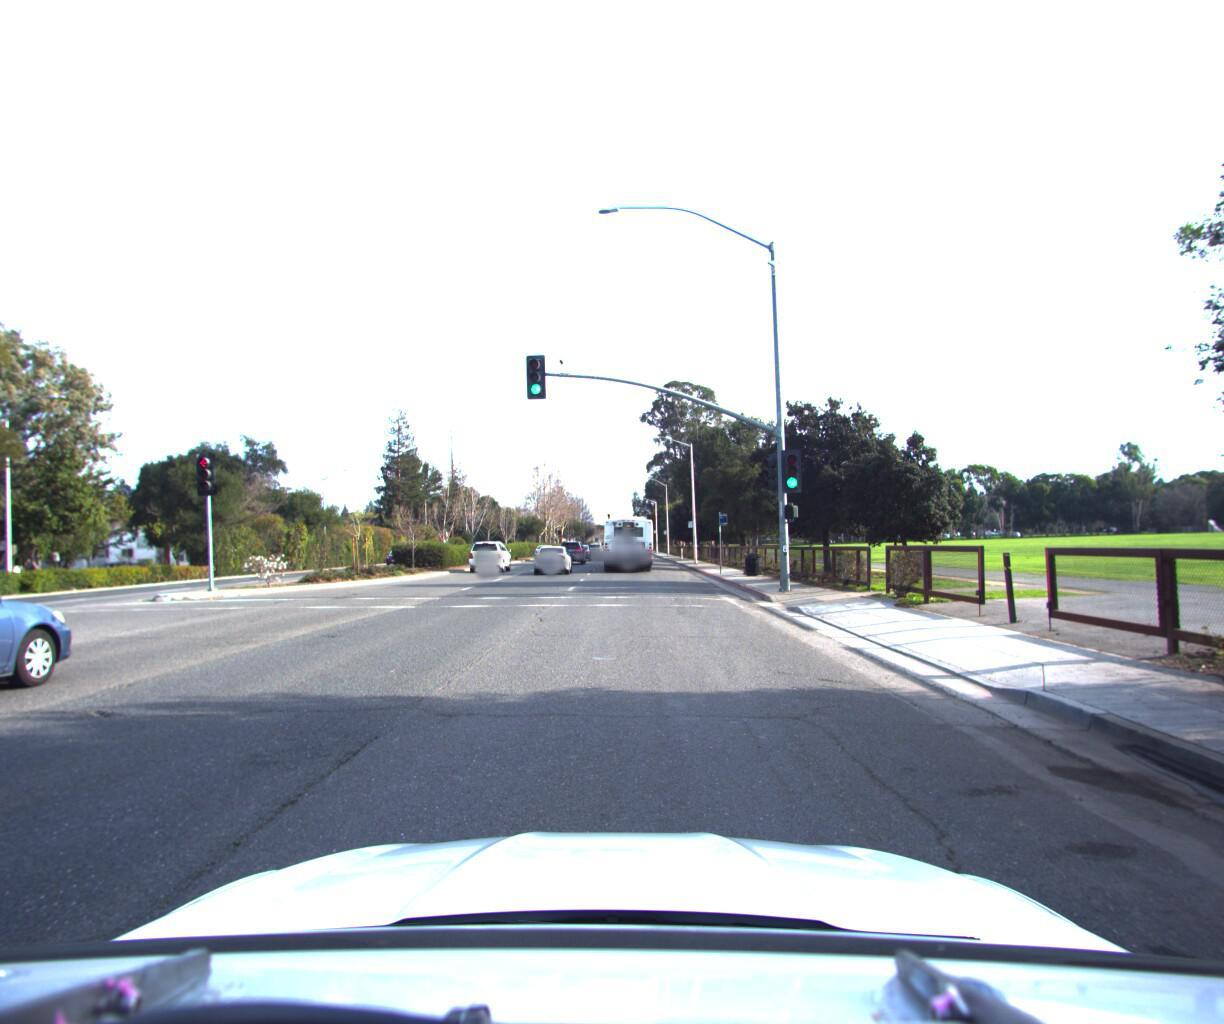bus: (597, 503, 656, 568)
car: (466, 535, 512, 569), (530, 538, 573, 570), (564, 534, 593, 559)
